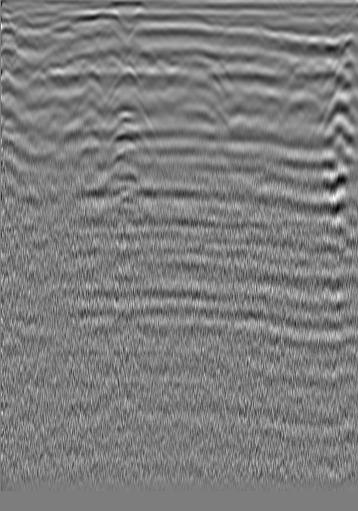가스: (104, 196, 148, 219)
상수: (31, 18, 51, 38)
오수: (305, 13, 325, 33)
우수: (151, 17, 171, 37)
